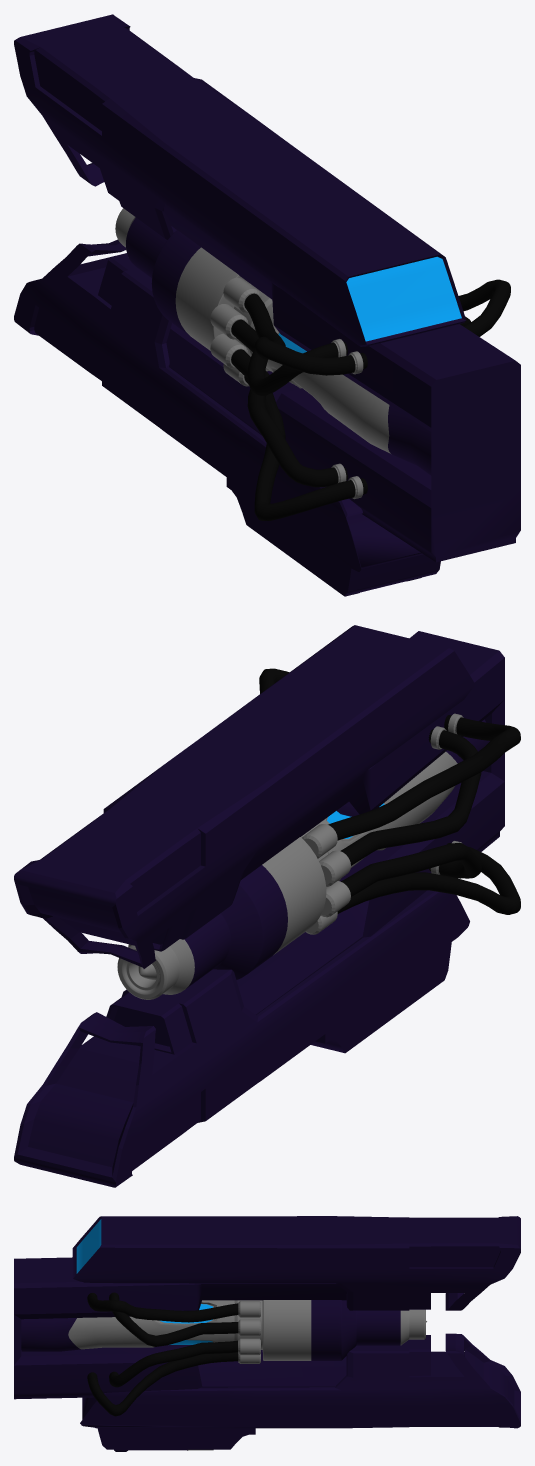
File: RayoLaser.fbx
The picture shows the model from 3 angles, top to bottom: view 1: azimuth 30°, elevation 25°; view 2: azimuth 150°, elevation 25°; view 3: azimuth 270°, elevation 25°; orthographic projection. The views are drawn at different scales.
Visible parts, largest first — view 1: laser; view 2: laser; view 3: laser.
Boxes of the visible parts, x1,y1,x2,y2 form: laser: (14,14,520,596); laser: (14,625,520,1187); laser: (14,1216,520,1451).
Size of the model in its own units: 8.75 by 10.87 by 23.84.
